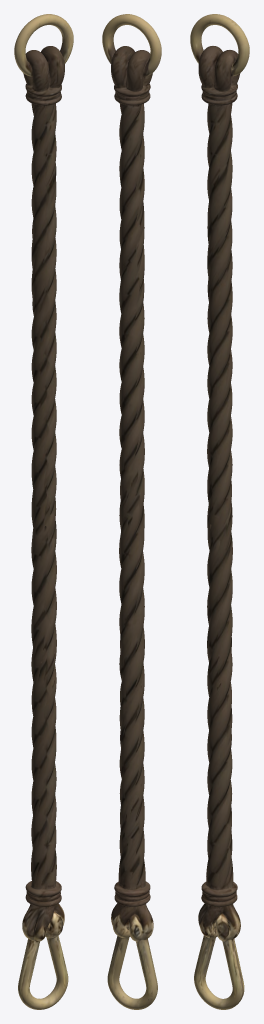
The model's file is long_hanging_rope.glb.
The picture shows the model from 3 angles, left to right: view 1: azimuth 30°, elevation 25°; view 2: azimuth 150°, elevation 25°; view 3: azimuth 330°, elevation 25°; orthographic projection.
Parts seen in each view (by area): view 1: node_0; view 2: node_0; view 3: node_0.
Boxes of the visible parts, <box> form: node_0: <box>14,14,73,1009</box>; node_0: <box>102,14,161,1009</box>; node_0: <box>190,14,249,1009</box>.
Size of the model in its own units: 0.0732 by 1.2 by 0.0399.
Materials: 1 (1 with a texture image).
